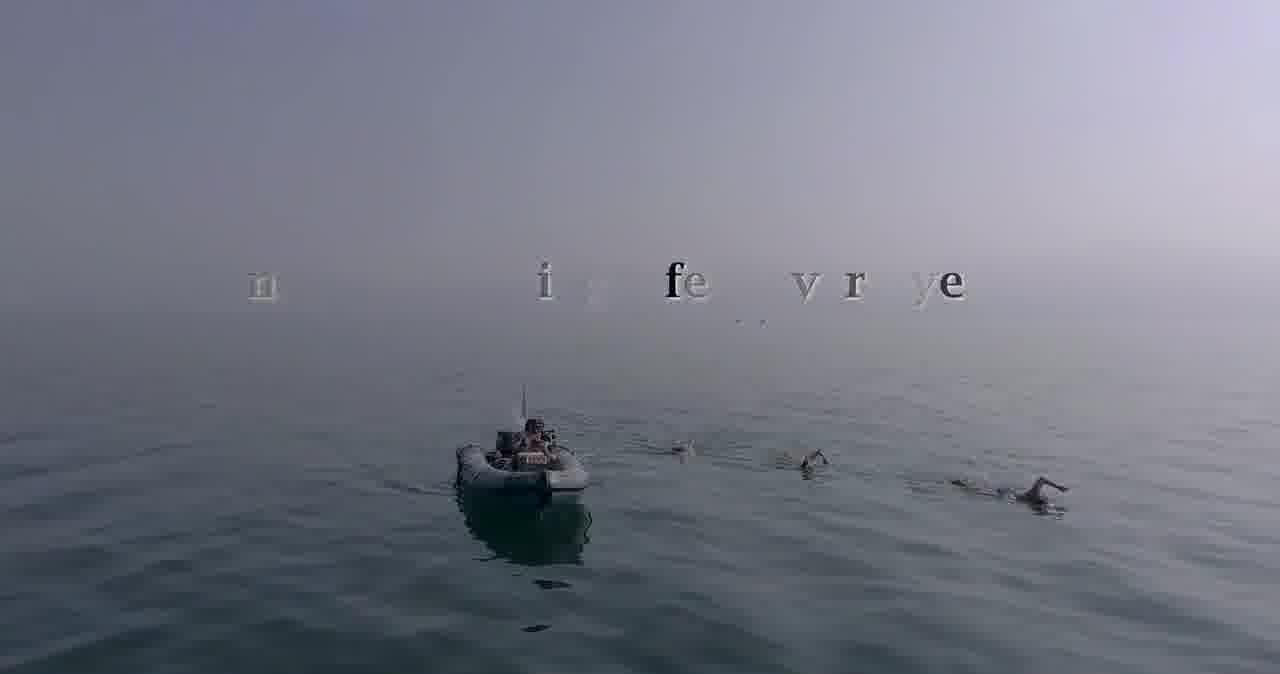swimmer: (1016, 474, 1062, 516), (789, 443, 827, 483), (671, 442, 703, 467)
